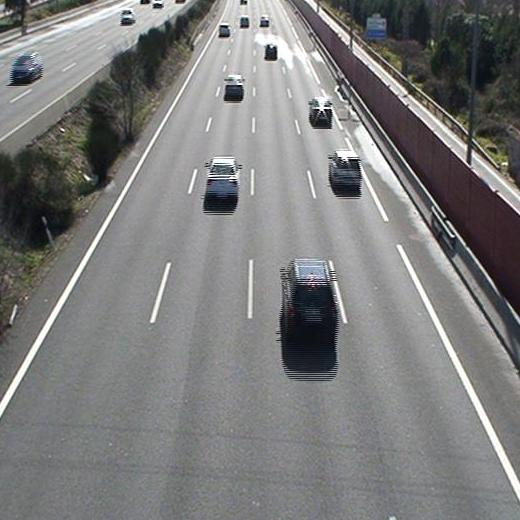car: (279, 258, 339, 342), (204, 157, 240, 201), (328, 150, 362, 192), (308, 95, 333, 125), (223, 73, 245, 99), (264, 43, 278, 62), (218, 22, 230, 37), (240, 15, 249, 28), (260, 14, 269, 25)
